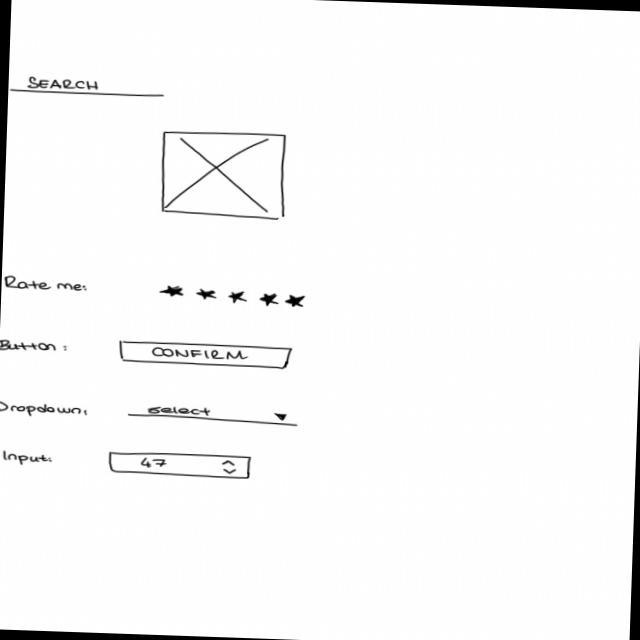button: (115, 339, 294, 370)
image: (157, 128, 290, 222)
input: (7, 72, 166, 98)
label: (0, 396, 90, 420), (1, 274, 90, 294), (0, 336, 70, 354), (0, 448, 55, 466)
number-input: (104, 448, 256, 479)
select: (126, 401, 300, 428)
